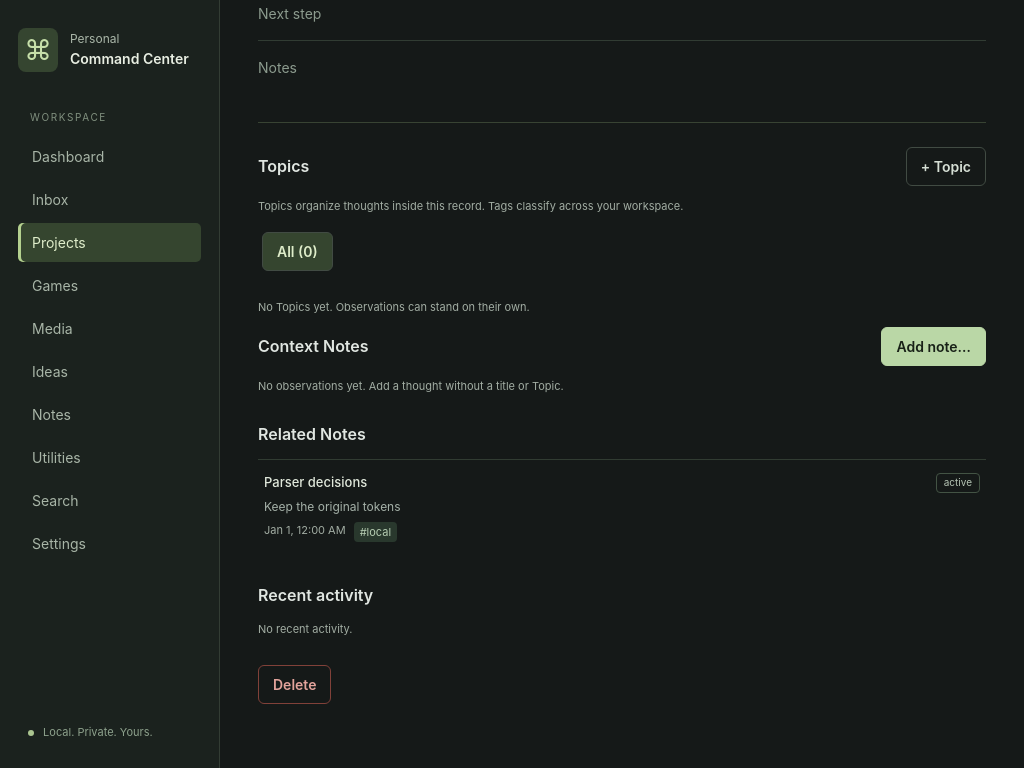
Test: reverse notes and named target links recover context
(page scrolled)
Click the link "Parser decisions": click(316, 482) [258,460,986,555]
(page scrolled)
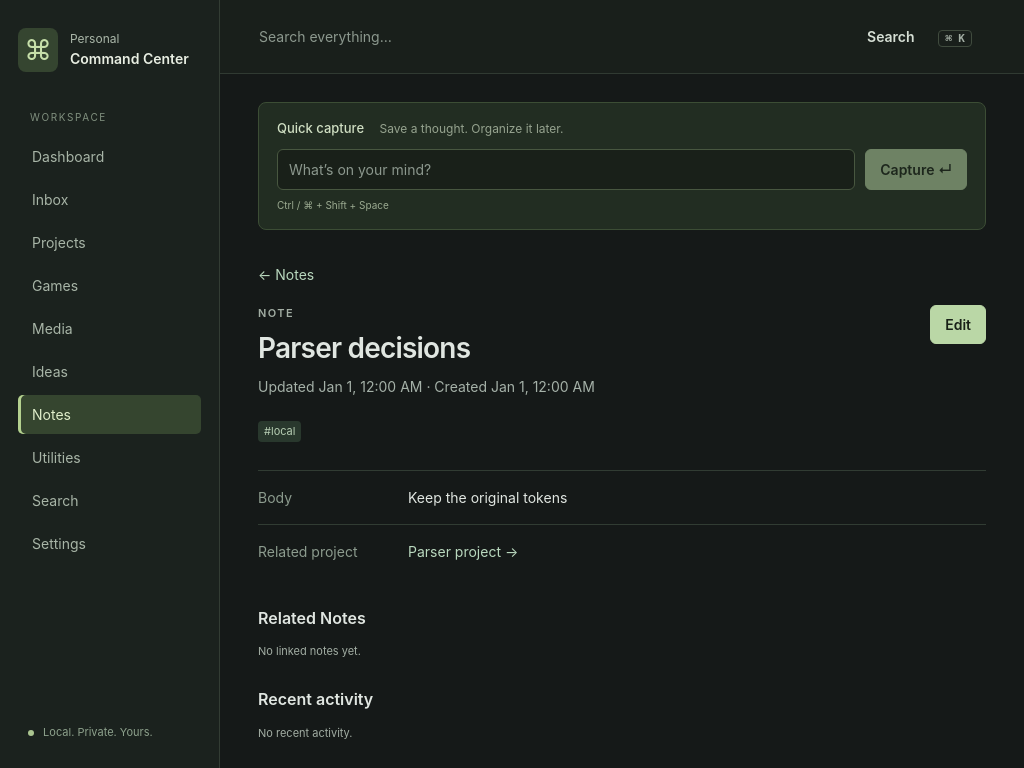
Expected: the text "Related project" is shown, [258,542,358,560]
